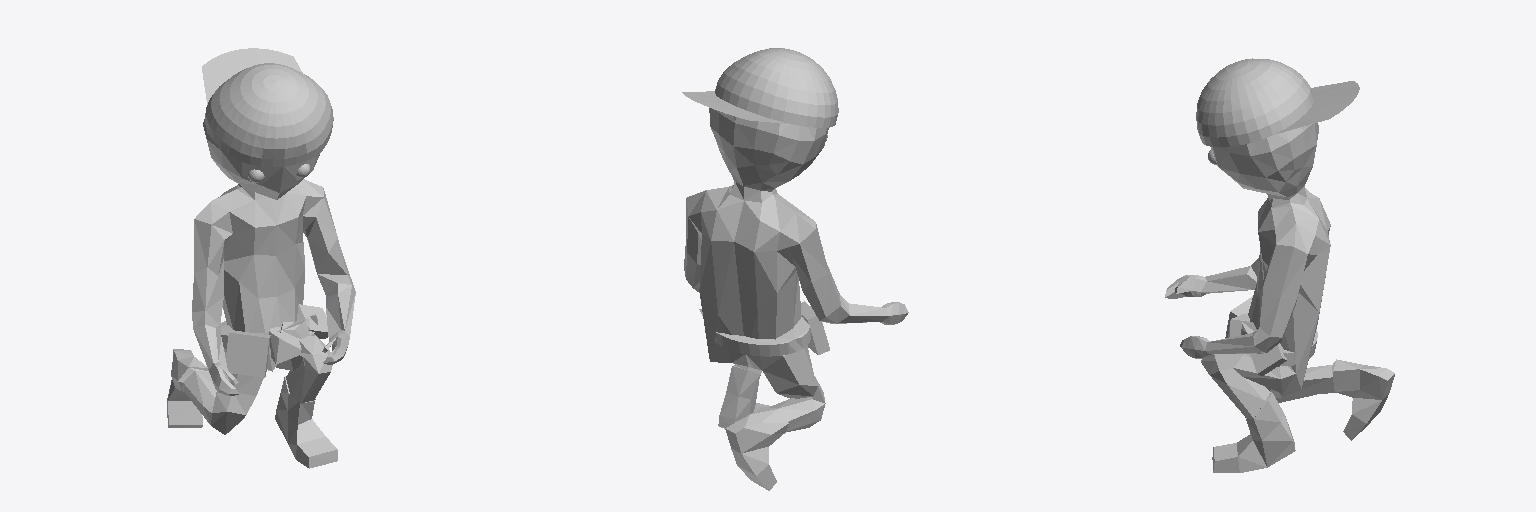
The model's file is Main_Character_TireRepair_17.obj.
3 renders of one model, left to right at view 1: azimuth 30°, elevation 25°; view 2: azimuth 150°, elevation 25°; view 3: azimuth 270°, elevation 25°, orthographic.
Parts seen in each view (by area): view 1: Main_Character_Test.003_Main_Character_Test.004; view 2: Main_Character_Test.003_Main_Character_Test.004; view 3: Main_Character_Test.003_Main_Character_Test.004.
Part boxes in pixels (x1,y1,x2,y2): Main_Character_Test.003_Main_Character_Test.004: (167, 48, 355, 468); Main_Character_Test.003_Main_Character_Test.004: (682, 48, 908, 490); Main_Character_Test.003_Main_Character_Test.004: (1165, 58, 1394, 472).
Bounding box in the file's own units: 1.59 × 3.29 × 1.78.